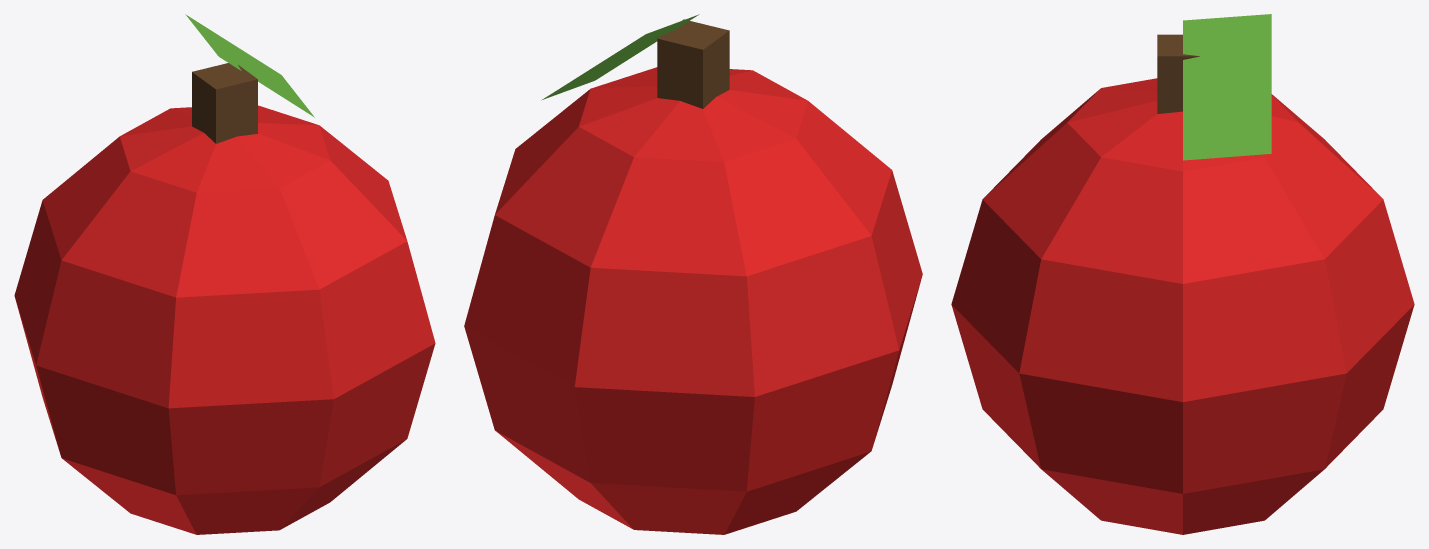
The model's file is apple.obj.
3 views of the same model, side by side, from view 1: azimuth 30°, elevation 25°; view 2: azimuth 150°, elevation 25°; view 3: azimuth 270°, elevation 25° (orthographic). The views are drawn at different scales.
Parts seen in each view (by area): view 1: fruit; view 2: fruit; view 3: fruit.
Part boxes in pixels (bbox=[...]): fruit: bbox=[14, 14, 435, 534]; fruit: bbox=[464, 14, 922, 534]; fruit: bbox=[951, 14, 1414, 534].
Size of the model in its own units: 0.18 by 0.2149 by 0.18.
